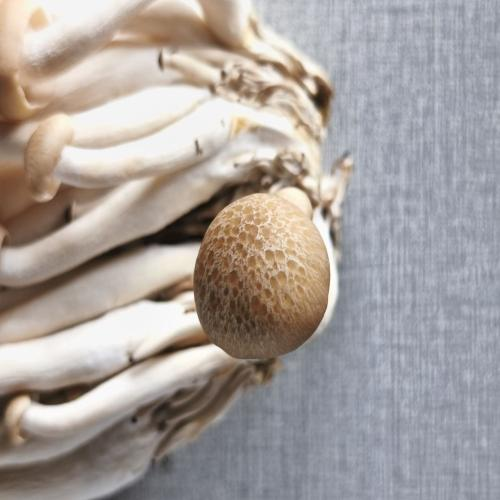Enoki Mushroom: (0, 0, 347, 499), (194, 194, 330, 358)
